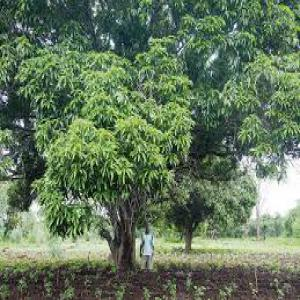Tree: (18, 36, 190, 272)
